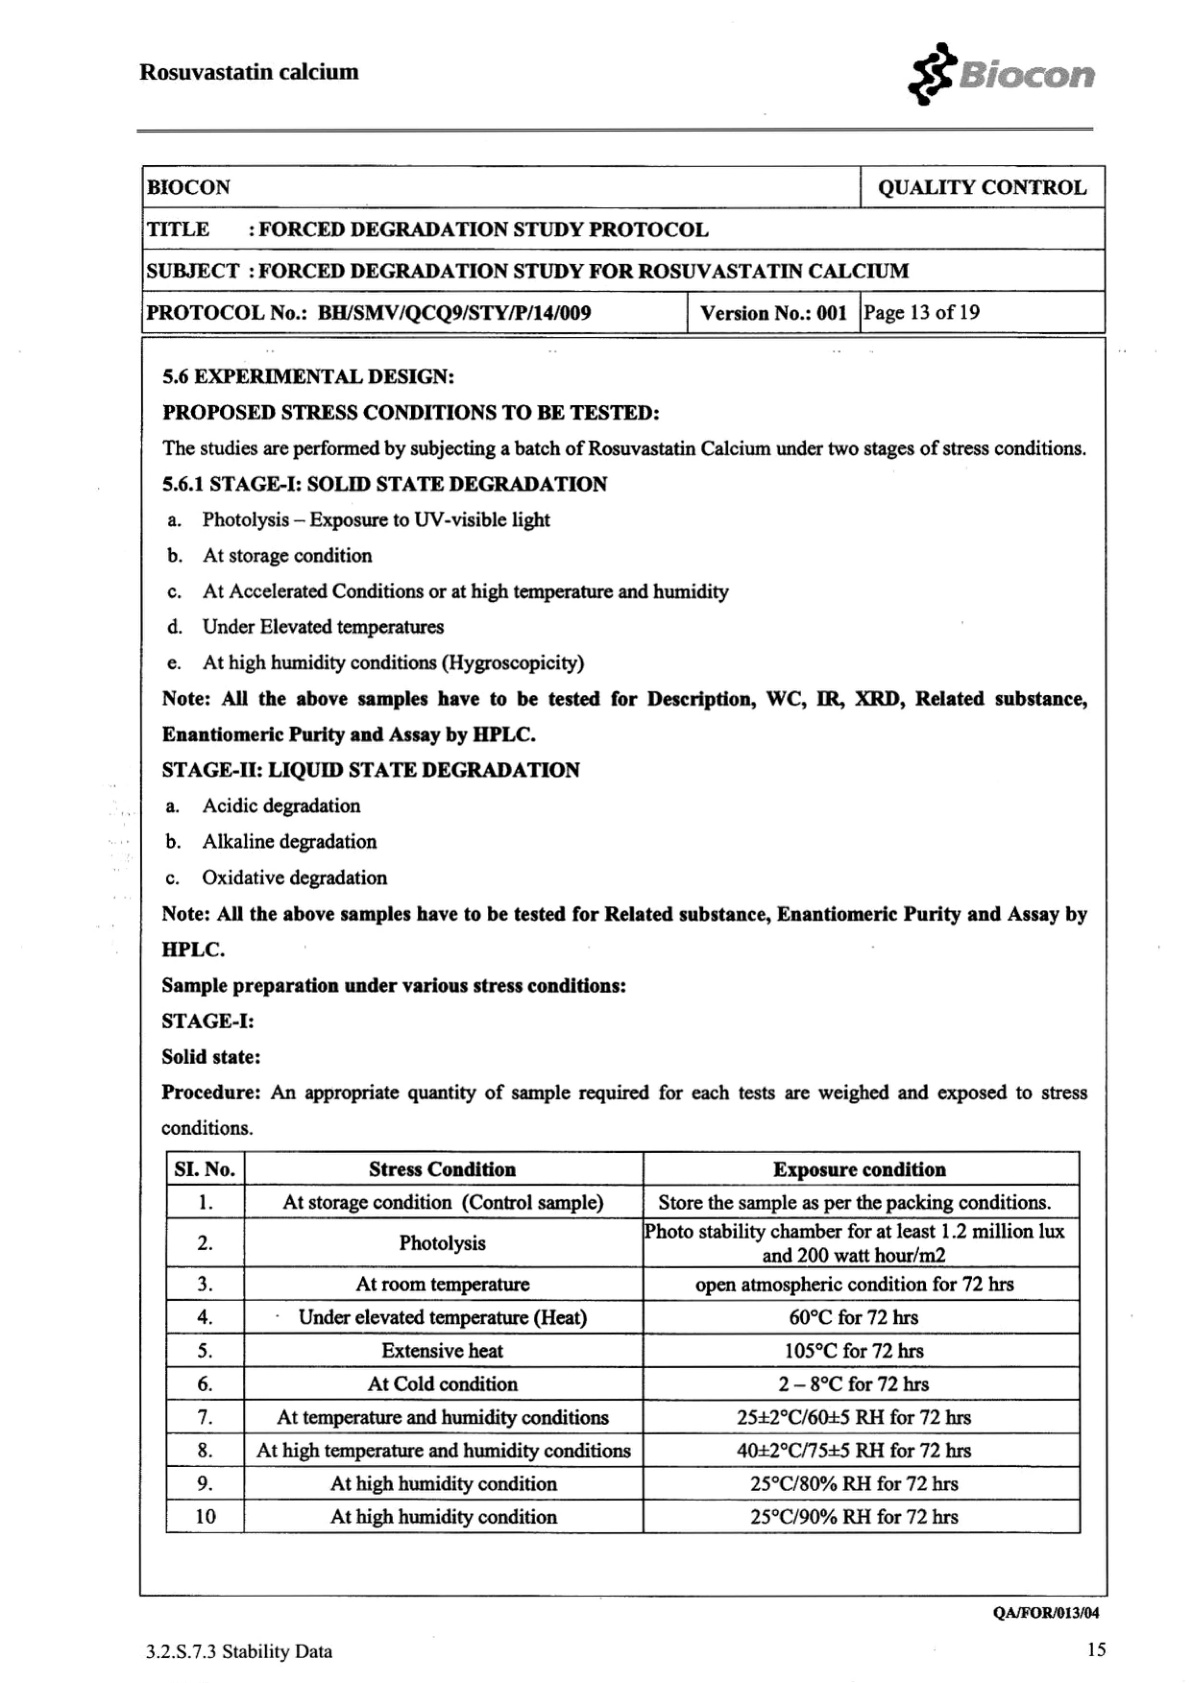full_lined: (164, 1149, 1084, 1535)
merged_cells: (141, 162, 1109, 335)
